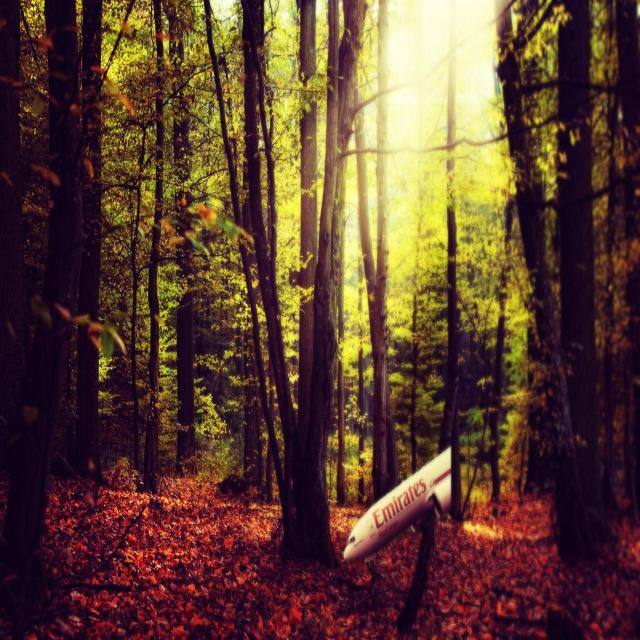airplane: (343, 444, 453, 563)
